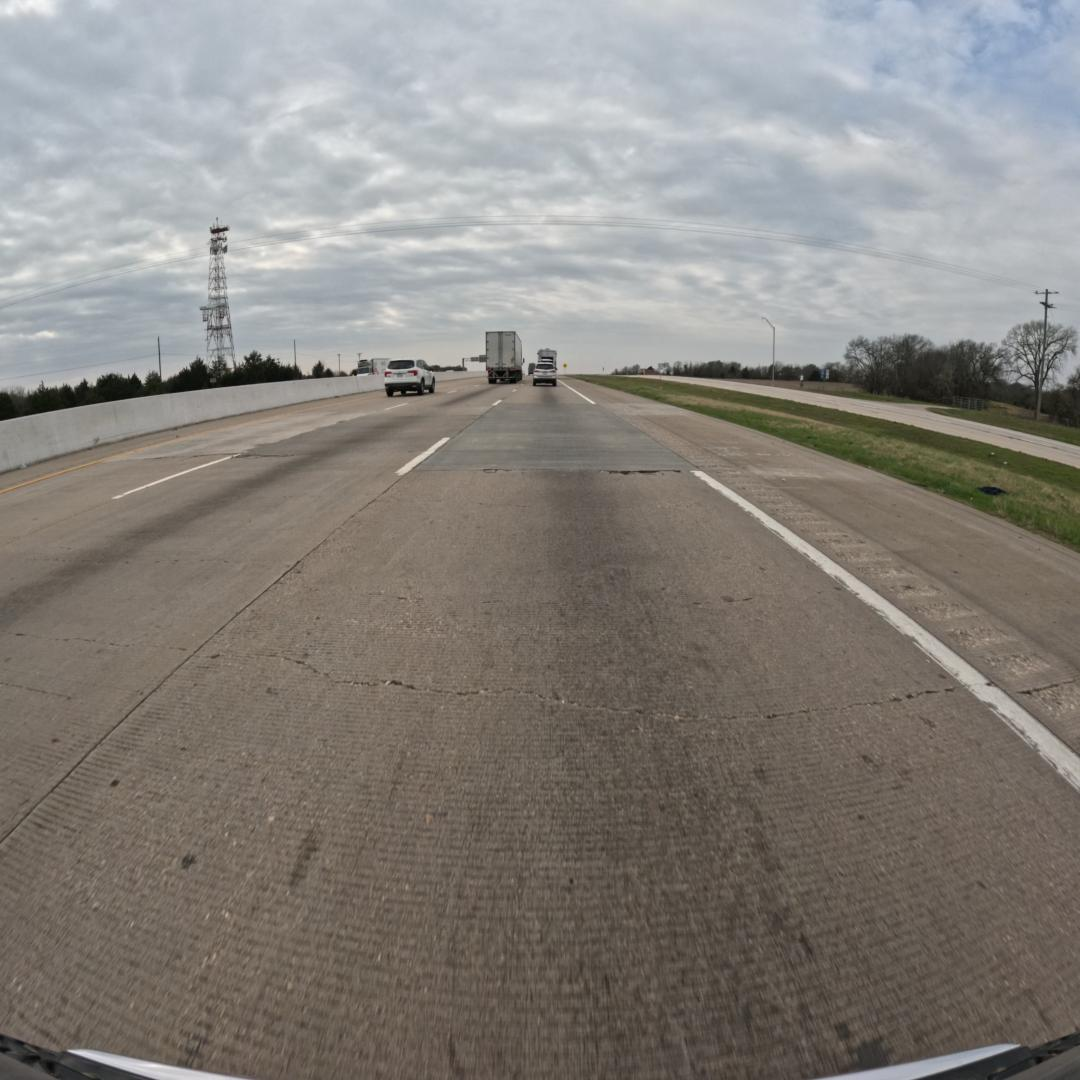lane0: (1, 381, 1080, 1080)
lane1: (0, 381, 526, 842)
